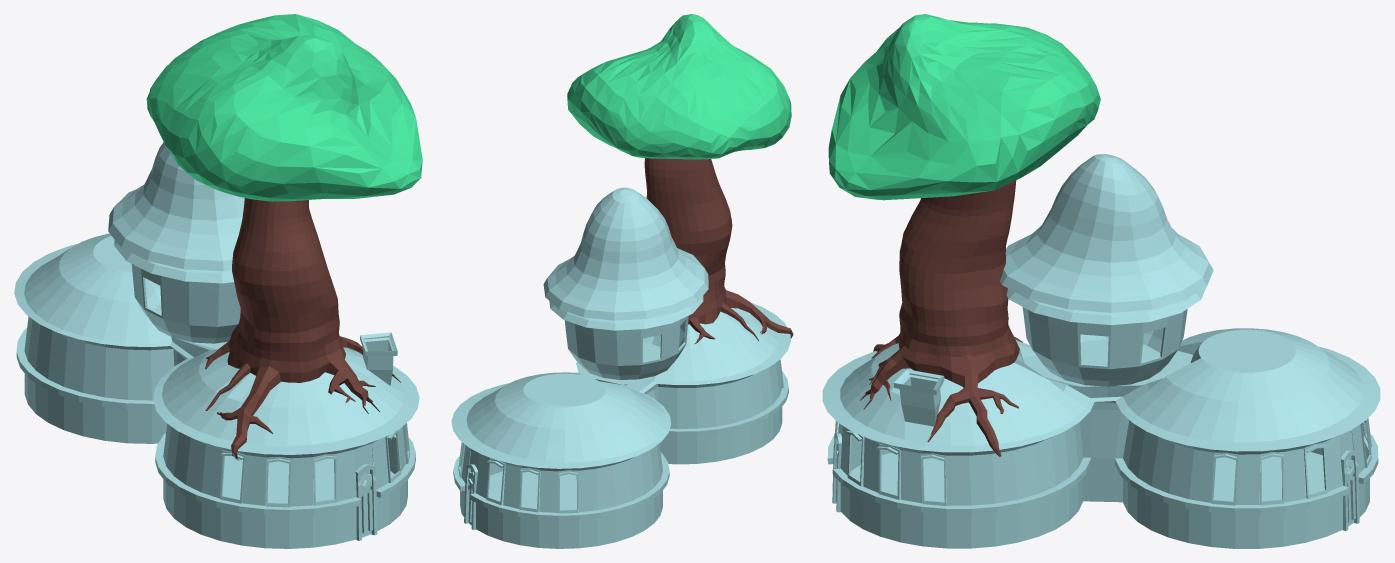
Rendered from TreeHouse05.fbx.
The picture shows the model from 3 angles, left to right: view 1: azimuth 30°, elevation 25°; view 2: azimuth 150°, elevation 25°; view 3: azimuth 270°, elevation 25°; orthographic projection. The views are drawn at different scales.
Parts seen in each view (by area): view 1: Cylinder.035; view 2: Cylinder.035; view 3: Cylinder.035.
Part boxes in pixels (x1=…): Cylinder.035: x1=14, y1=14, x2=422, y2=548; Cylinder.035: x1=451, y1=14, x2=793, y2=548; Cylinder.035: x1=822, y1=14, x2=1380, y2=548.
Size of the model in its own units: 832 by 1596 by 1678.
